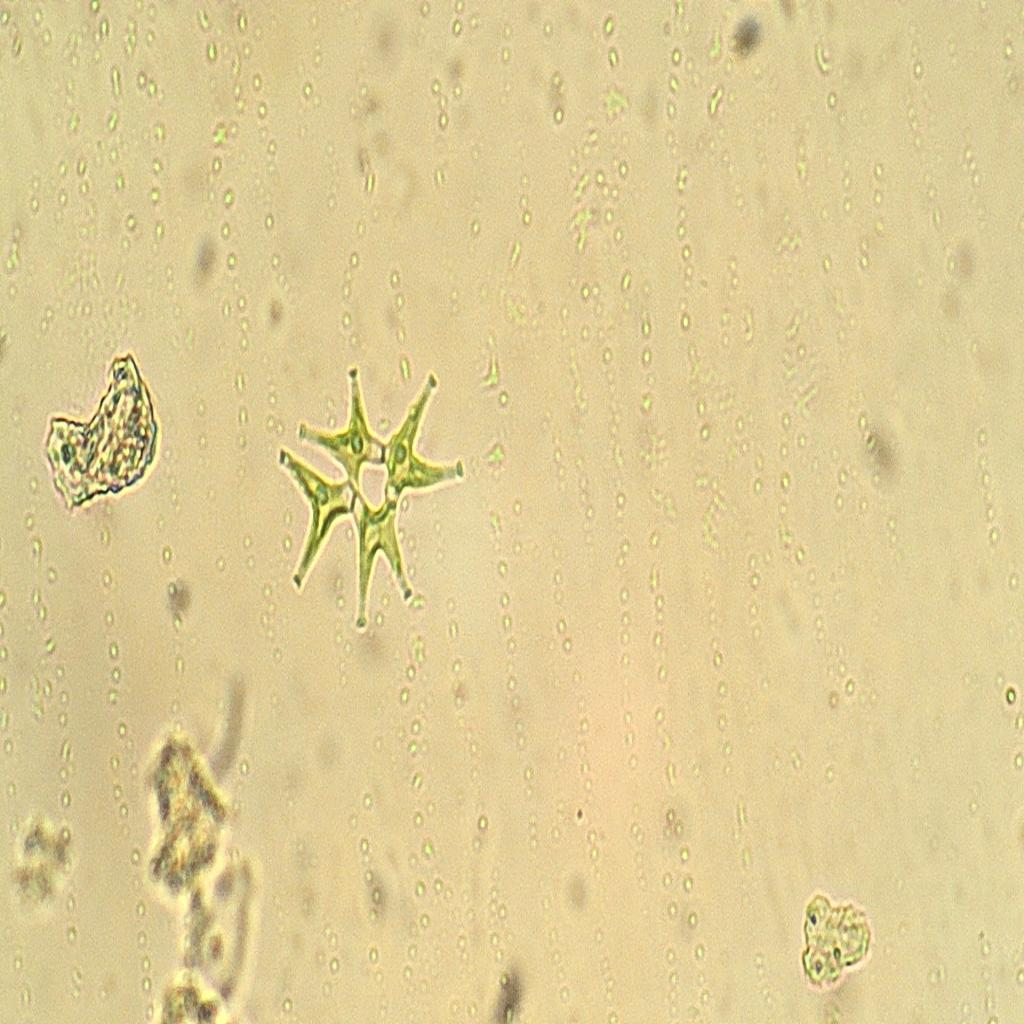Pediastrum_CT: (253, 353, 497, 646)
